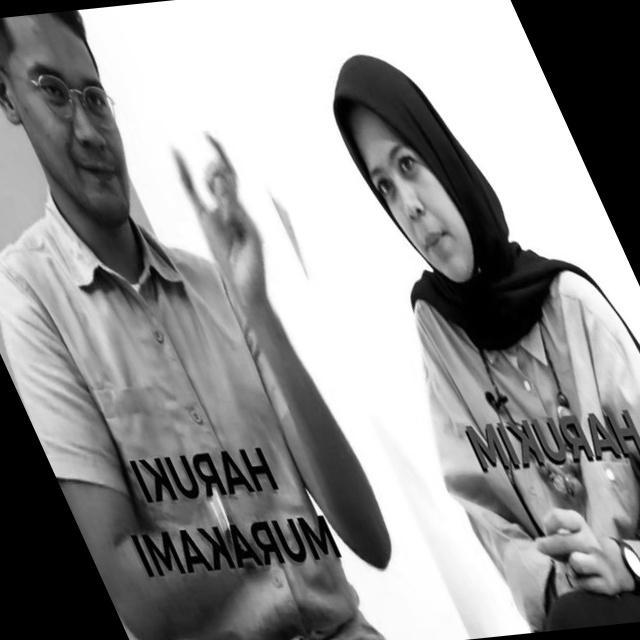U: (160, 124, 258, 250)
